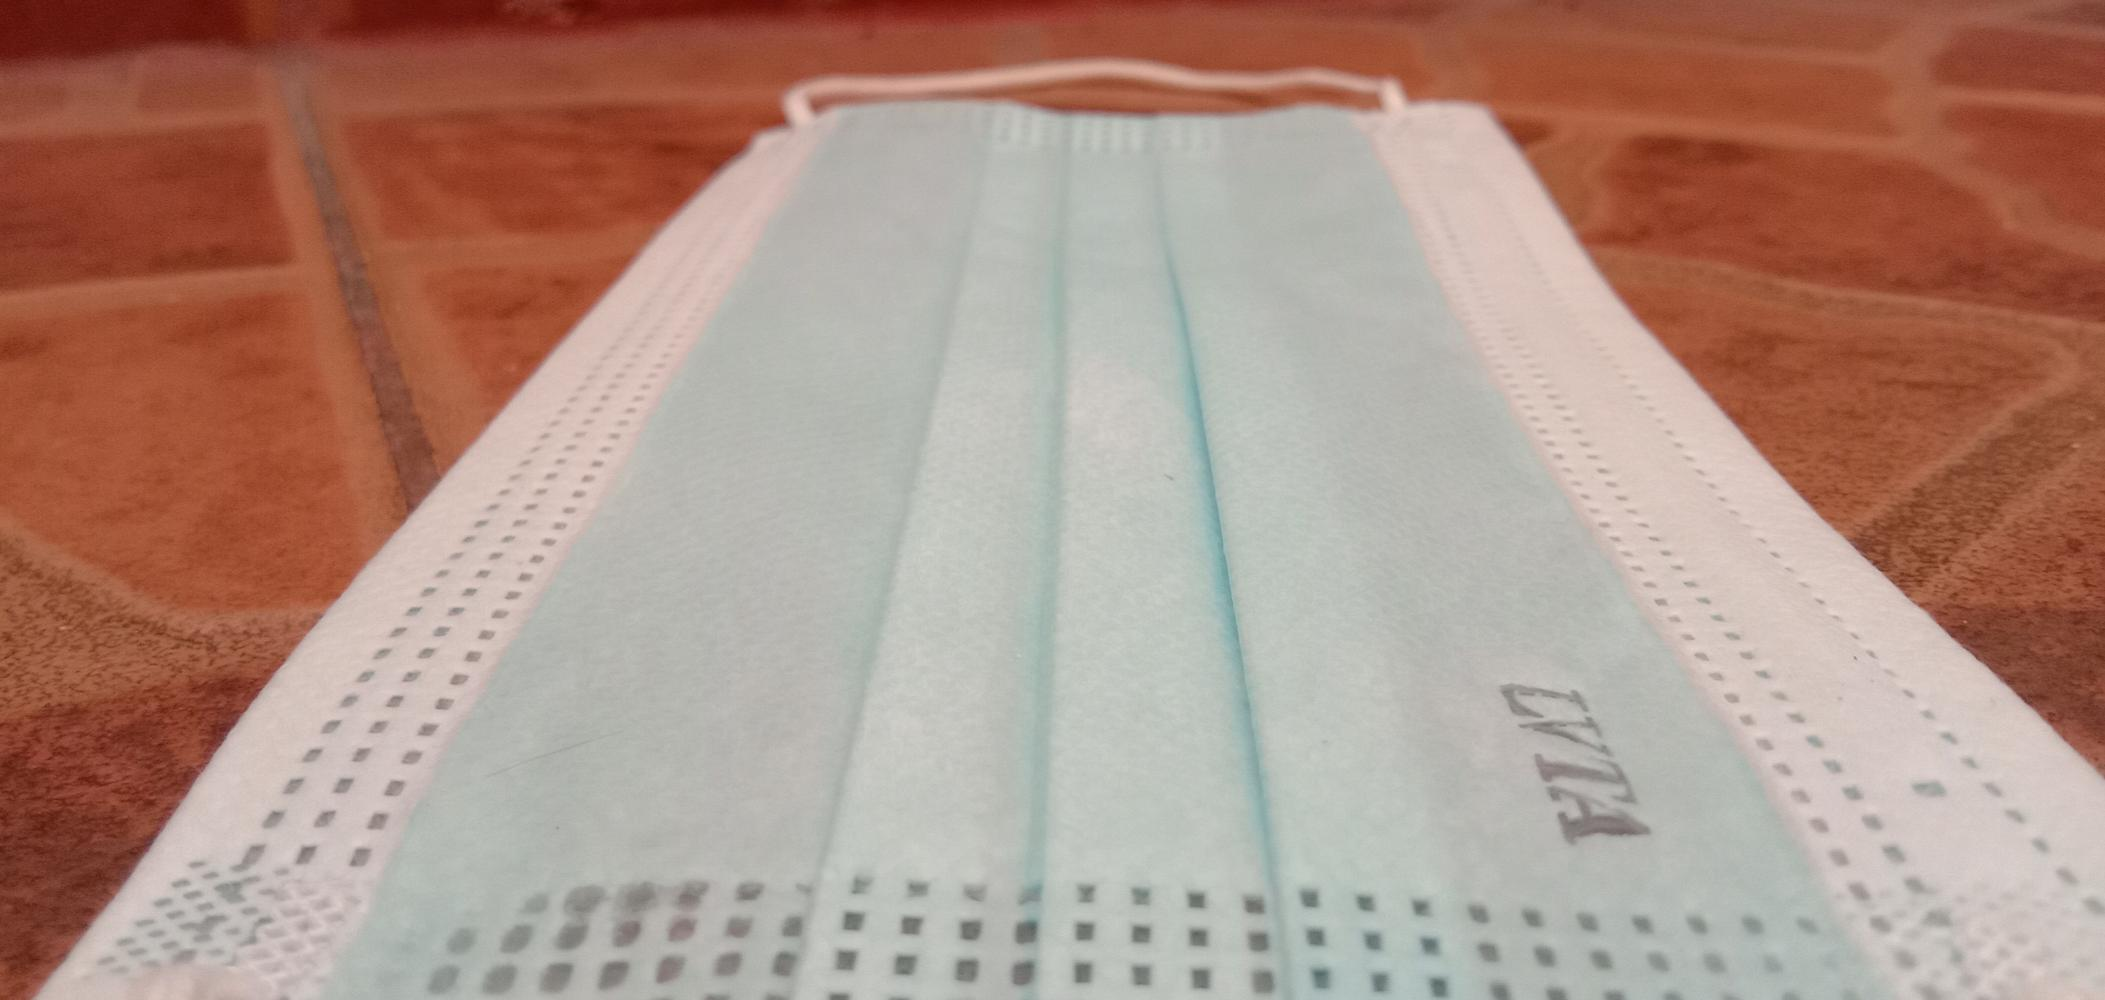Face Mask: (271, 1, 1955, 1000)
